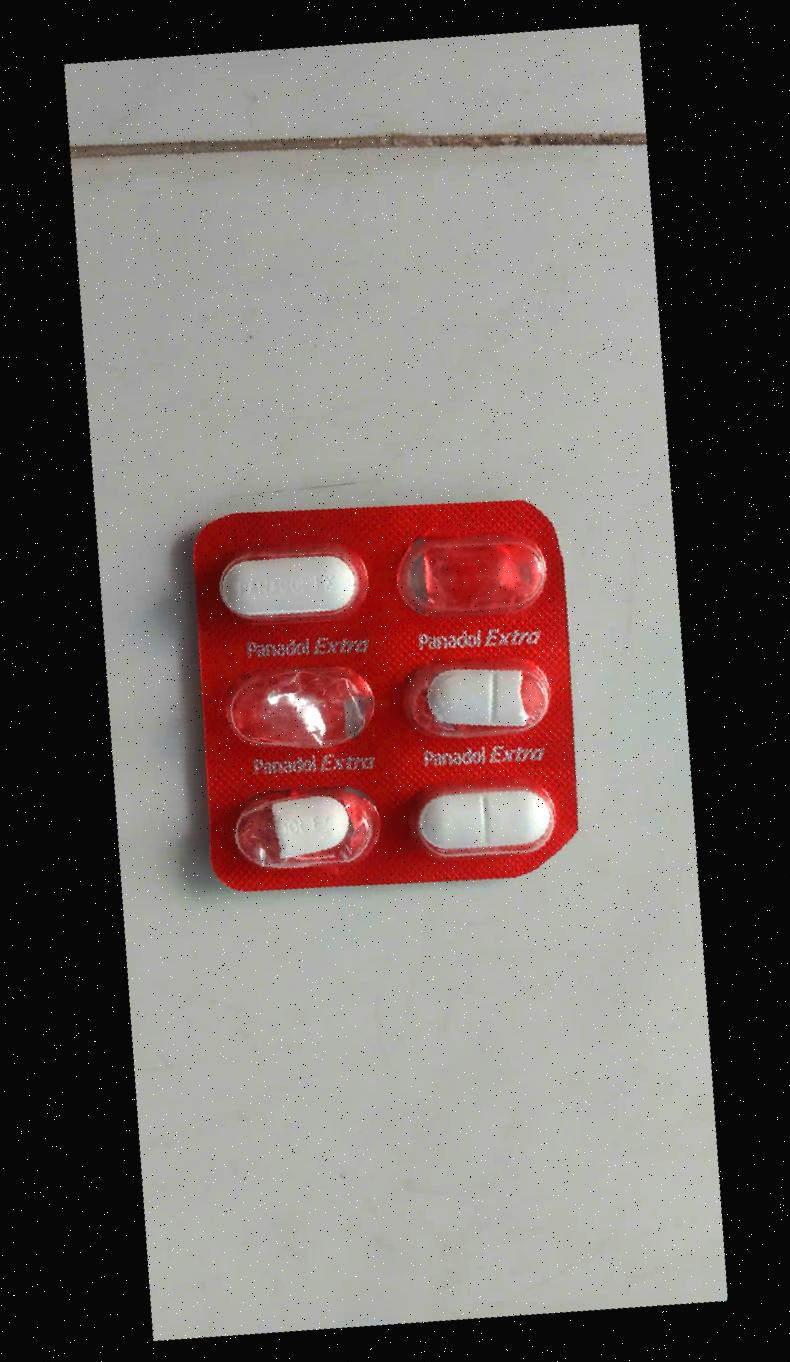Empty: (388, 526, 554, 629), (216, 656, 383, 758)
Full: (395, 765, 562, 867), (205, 534, 371, 636)
Partial: (221, 780, 388, 882), (397, 648, 563, 750)
